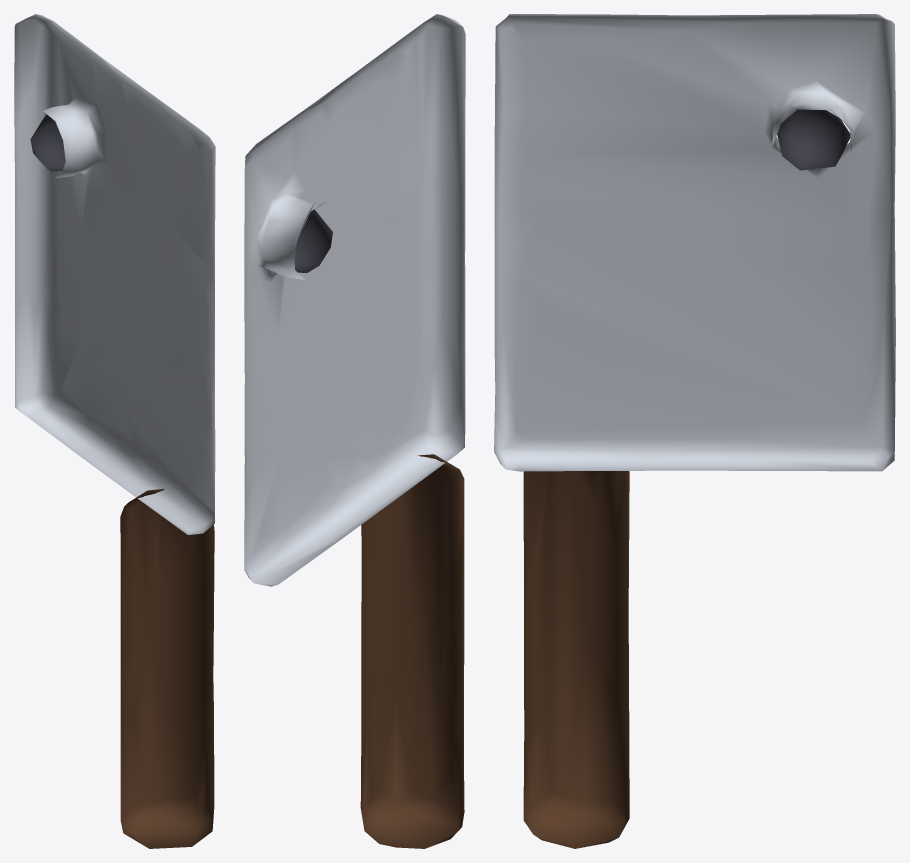
The model's file is wpn_filet.glb.
3 renders of one model, left to right at view 1: azimuth 30°, elevation 25°; view 2: azimuth 150°, elevation 25°; view 3: azimuth 270°, elevation 25°, orthographic. The views are drawn at different scales.
Parts seen in each view (by area): view 1: body; view 2: body; view 3: body.
Part boxes in pixels (x1,y1,x2,y2): body: [14, 14, 215, 848]; body: [244, 14, 465, 848]; body: [494, 14, 895, 848].
Size of the model in its own units: 0.1788 by 1.52 by 0.6784.
Materials: 1 (1 with a texture image).
